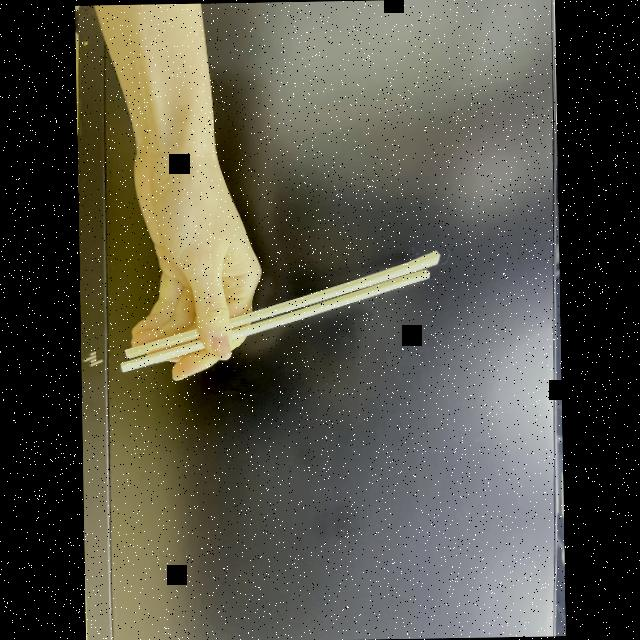stick: (116, 172, 444, 381)
